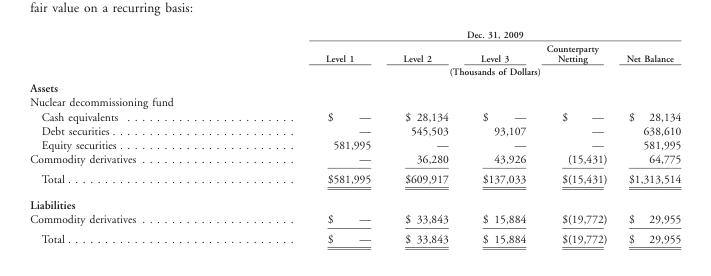table: (29, 28, 680, 244)
table column: (29, 28, 230, 244), (230, 28, 386, 244), (535, 28, 616, 244), (386, 28, 463, 244), (463, 28, 535, 244), (616, 28, 680, 244)
table column header: (29, 28, 680, 79)
table projected row header: (29, 191, 680, 211), (29, 79, 680, 94), (29, 94, 680, 109)
table row: (29, 40, 680, 64), (29, 168, 680, 191), (29, 191, 680, 211), (29, 151, 680, 168), (29, 211, 680, 228), (29, 228, 680, 244), (29, 64, 680, 79), (29, 79, 680, 94), (29, 94, 680, 109), (29, 109, 680, 123), (29, 123, 680, 137), (29, 137, 680, 151), (29, 28, 680, 40)
table spanning cell: (230, 64, 680, 79), (230, 28, 680, 40)
